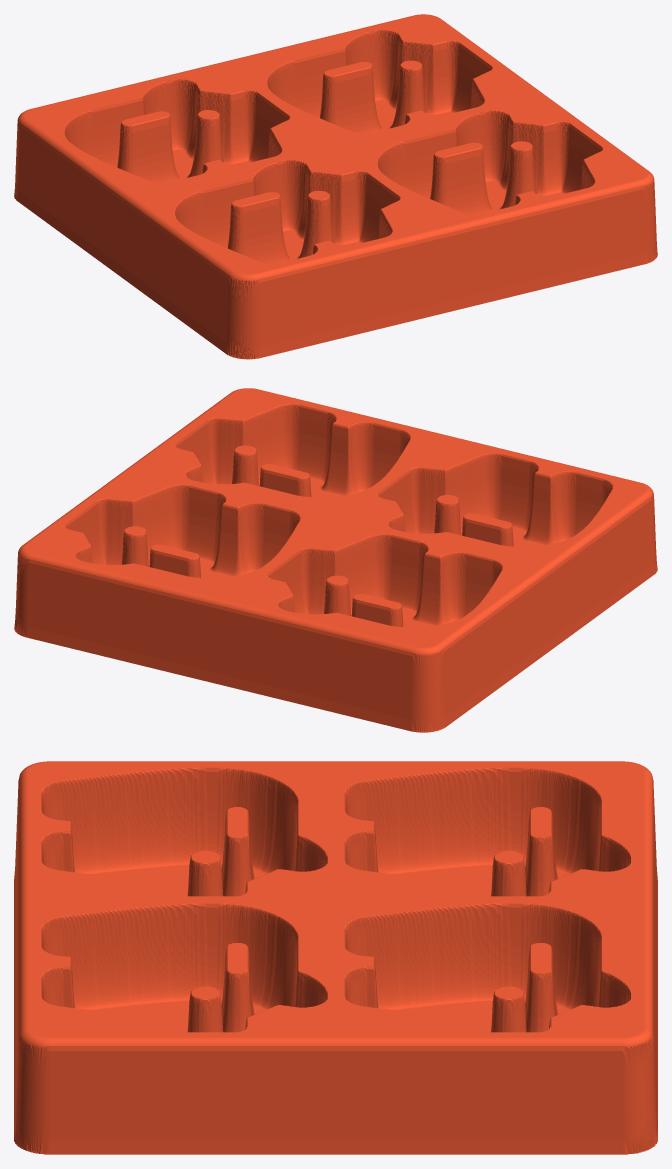
File: mold.glb
3 views of the same model, one above another, from view 1: azimuth 30°, elevation 25°; view 2: azimuth 150°, elevation 25°; view 3: azimuth 270°, elevation 25° (orthographic). The views are drawn at different scales.
Visible parts, largest first — view 1: geometry_0; view 2: geometry_0; view 3: geometry_0.
Boxes of the visible parts, left/top/right/bottom form: geometry_0: left=14, top=14, right=657, bottom=359; geometry_0: left=14, top=388, right=657, bottom=732; geometry_0: left=14, top=761, right=657, bottom=1154.
Size of the model in its own units: 0.1721 by 0.031 by 0.163.
